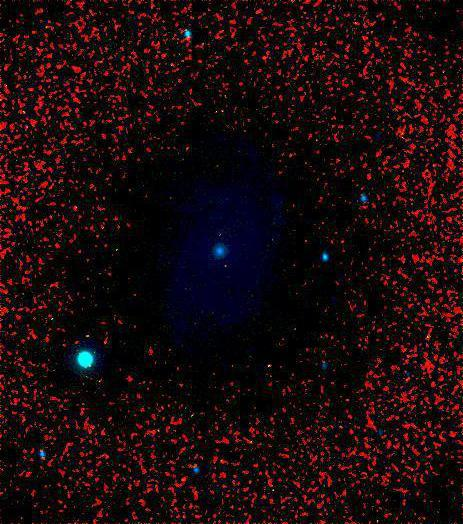star: (214, 254, 244, 284)
